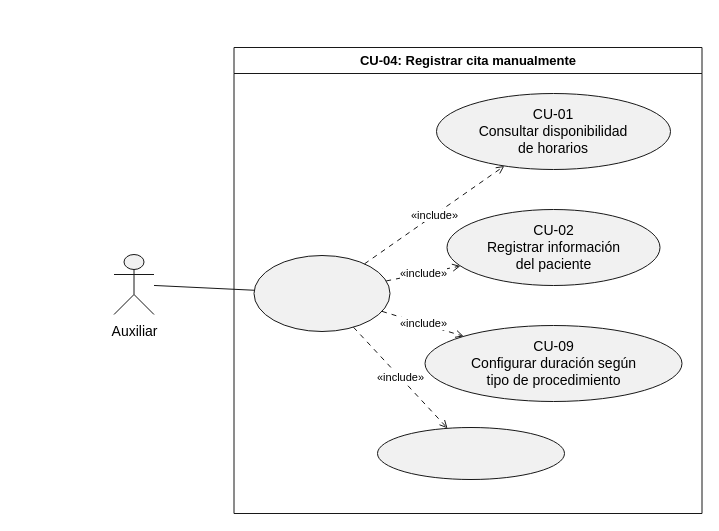
Image size: 719x531. Some labels were removed from this diagram. The centre of each missing label's shape, as x and y in pixels:
"CU-04 Registrar cita manualmente" belongs at pixel 321 293.
"Validar cita activa existente" belongs at pixel 470 453.
